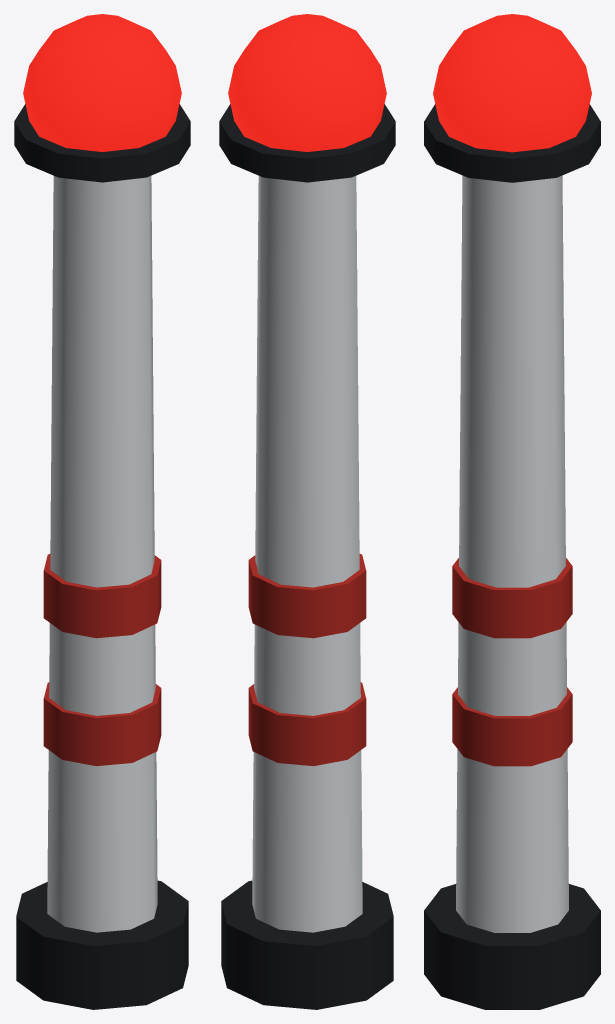
File: warnlight_rail_marker_light.glb
3 renders of one model, left to right at view 1: azimuth 30°, elevation 25°; view 2: azimuth 150°, elevation 25°; view 3: azimuth 270°, elevation 25°, orthographic.
Visible parts, largest first — view 1: warnlight_rail_marker_light; view 2: warnlight_rail_marker_light; view 3: warnlight_rail_marker_light.
Part boxes in pixels (<box>): warnlight_rail_marker_light: <box>14,14,190,1009</box>; warnlight_rail_marker_light: <box>219,14,395,1009</box>; warnlight_rail_marker_light: <box>424,14,600,1009</box>.
Bounding box in the file's own units: 0.1 × 0.595 × 0.1.
